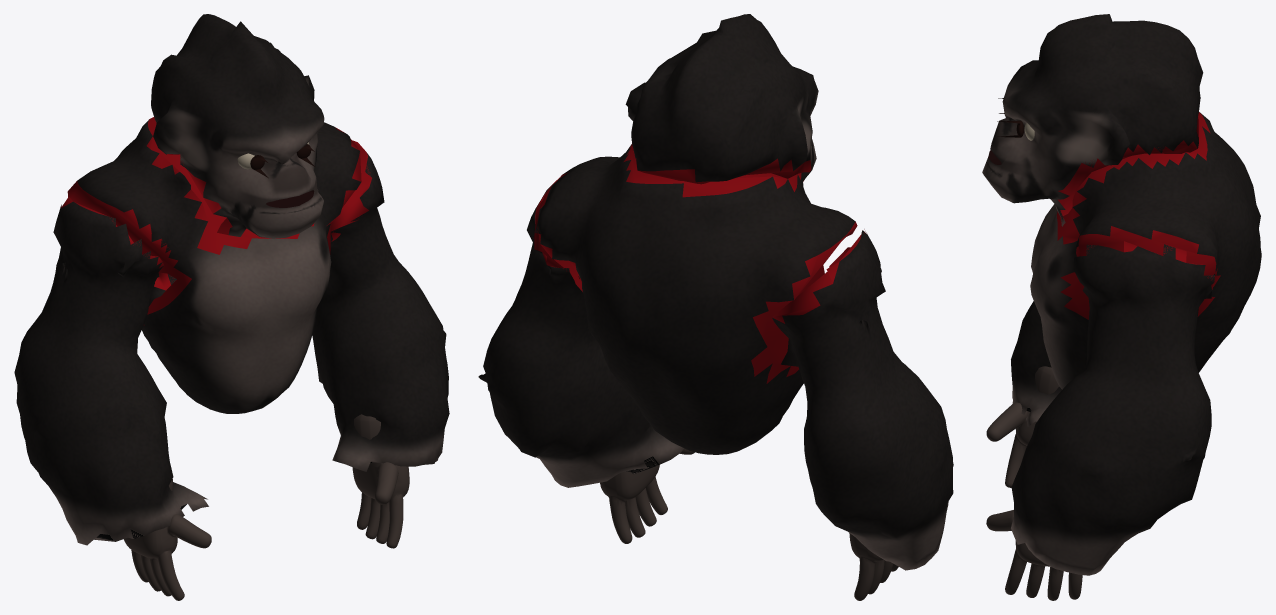
File: gorilla_parts.glb
3 renders of one model, left to right at view 1: azimuth 30°, elevation 25°; view 2: azimuth 150°, elevation 25°; view 3: azimuth 270°, elevation 25°, orthographic. The views are drawn at different scales.
Visible parts, largest first — view 1: Arm_R, Body, Arm_L, Head; view 2: Body, Arm_R, Arm_L, Head; view 3: Arm_L, Body, Head, Arm_R.
Boxes of the visible parts, left/top/right/bottom form: Arm_R: left=14, top=197, right=211, bottom=600; Body: left=67, top=117, right=361, bottom=413; Arm_L: left=312, top=140, right=449, bottom=548; Head: left=151, top=14, right=324, bottom=238; Body: left=535, top=144, right=857, bottom=454; Arm_R: left=772, top=229, right=953, bottom=600; Arm_L: left=478, top=177, right=694, bottom=543; Head: left=625, top=14, right=818, bottom=184; Arm_L: left=986, top=241, right=1214, bottom=600; Body: left=1030, top=112, right=1261, bottom=389; Head: left=982, top=14, right=1203, bottom=226; Arm_R: left=986, top=301, right=1061, bottom=487.
Size of the model in its own units: 1.28 by 1.59 by 0.756.
Materials: 6 (1 with a texture image).
